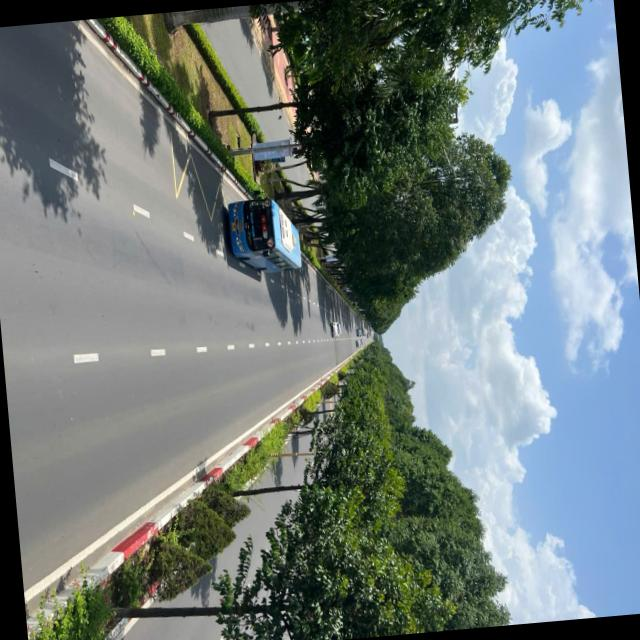Bus: (227, 198, 300, 272)
car: (328, 322, 342, 338), (354, 329, 362, 337), (360, 326, 366, 336), (353, 340, 360, 348), (358, 338, 364, 344)
